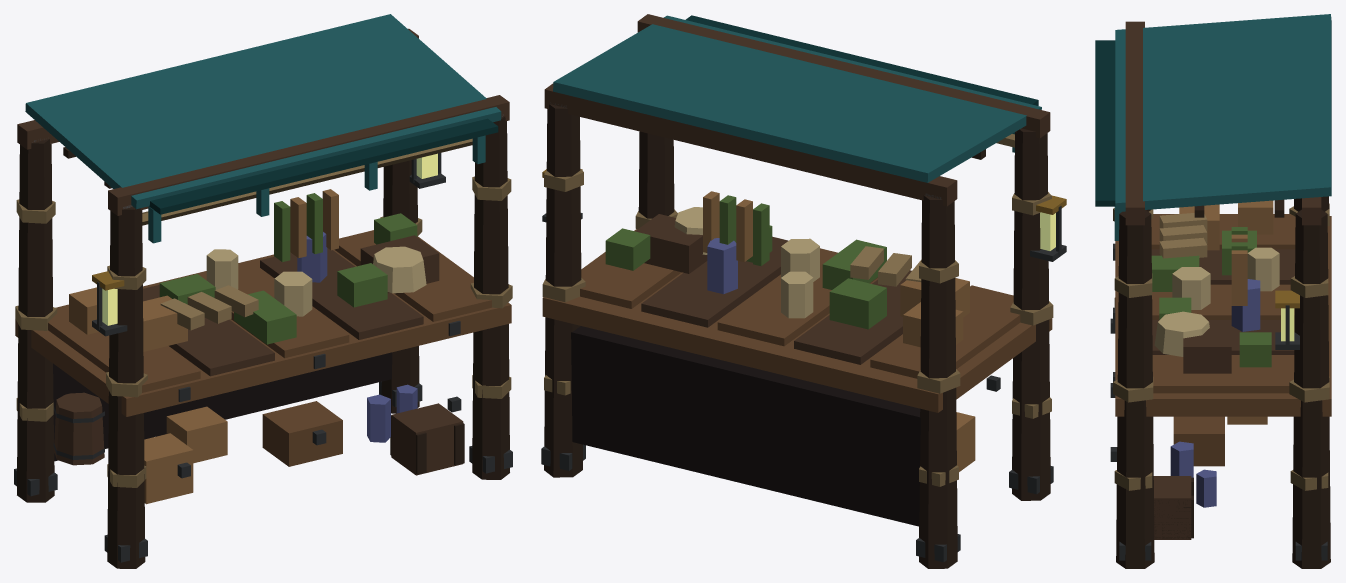
Rendered from fenbridge_provision_stall.glb.
3 views of the same model, side by side, from view 1: azimuth 30°, elevation 25°; view 2: azimuth 150°, elevation 25°; view 3: azimuth 270°, elevation 25° (orthographic). The views are drawn at different scales.
Parts seen in each view (by area): view 1: FenbridgeProvisionStall_FenbridgeOpaque, FenbridgeProvisionStall_FenbridgeEmissive; view 2: FenbridgeProvisionStall_FenbridgeOpaque; view 3: FenbridgeProvisionStall_FenbridgeOpaque, FenbridgeProvisionStall_FenbridgeEmissive.
Boxes of the visible parts, bbox=[...] form: FenbridgeProvisionStall_FenbridgeOpaque: bbox=[14, 14, 512, 568]; FenbridgeProvisionStall_FenbridgeEmissive: bbox=[102, 153, 437, 325]; FenbridgeProvisionStall_FenbridgeOpaque: bbox=[541, 14, 1066, 568]; FenbridgeProvisionStall_FenbridgeOpaque: bbox=[1095, 14, 1331, 568]; FenbridgeProvisionStall_FenbridgeEmissive: bbox=[1281, 308, 1294, 341].
Bounding box in the file's own units: 3.2 × 2.8 × 1.6.
